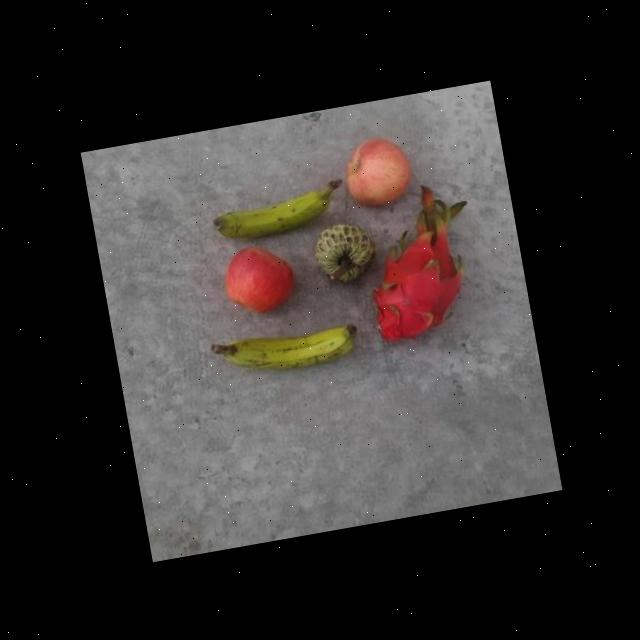Sakya fruit: (308, 217, 374, 285)
apple: (216, 240, 296, 320), (334, 133, 415, 211)
banana: (222, 312, 364, 382), (202, 172, 336, 246)
pitaya: (358, 230, 469, 348)
